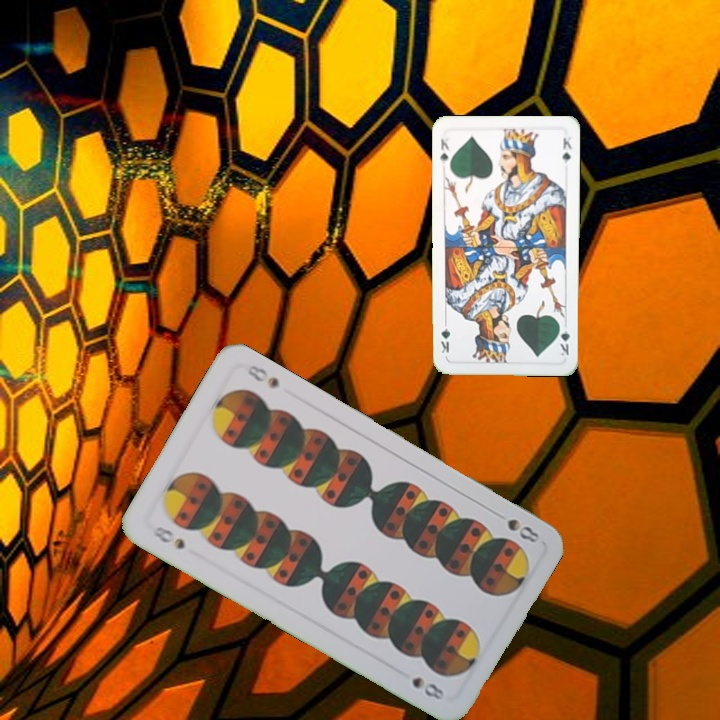GK: (555, 319, 573, 358), (436, 135, 453, 166)
S8: (503, 514, 542, 546), (148, 522, 188, 553)
